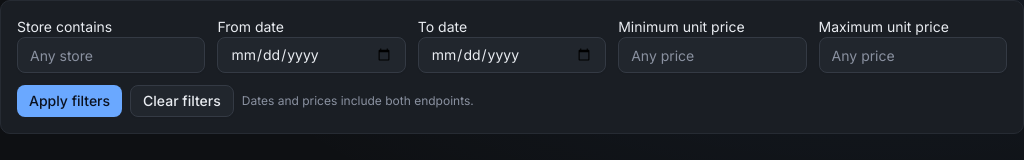
Test case: applies one normalized filter draft only on submit and clears fields together
Type "  Market  " into the field labelled "Store contains" at (111, 55), box [17,37,205,73]
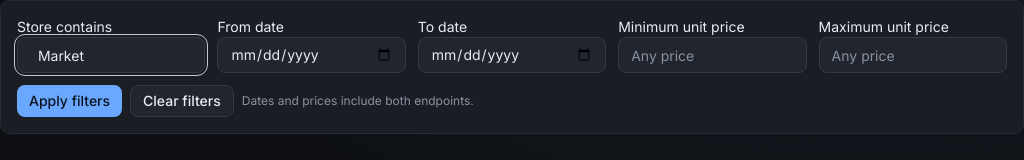
Type "1.2345" into the number field labelled "Minimum unit price" at (712, 55), box [618,37,807,73]
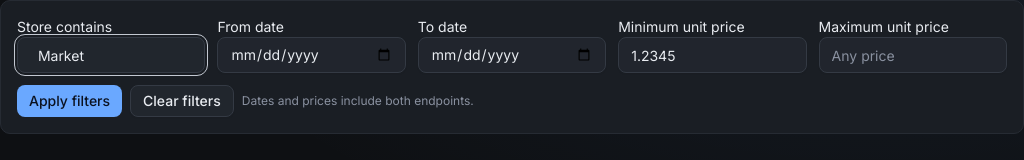
Type "2.3456" into the number field labelled "Maximum unit price" at (913, 55), box [819,37,1007,73]
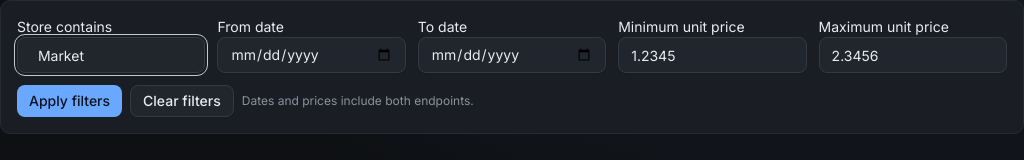
Click the button "Apply filters" at (70, 101), box [17,85,122,117]
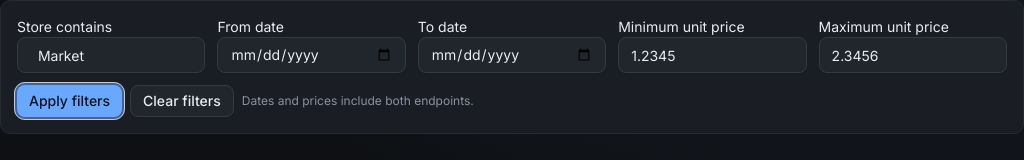
Click the button "Clear filters" at (182, 101), box [130,85,234,117]
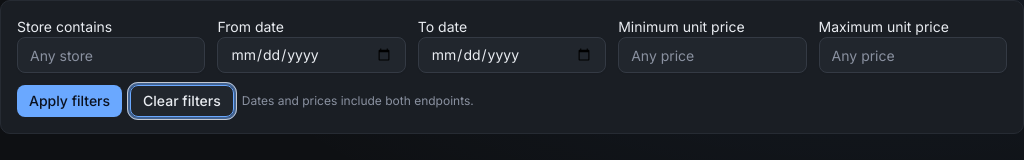
Check: the field labelled "Store contains" is empty, box [17,37,205,73]
Check: the number field labelled "Minimum unit price" is not empty, box [618,37,807,73]
